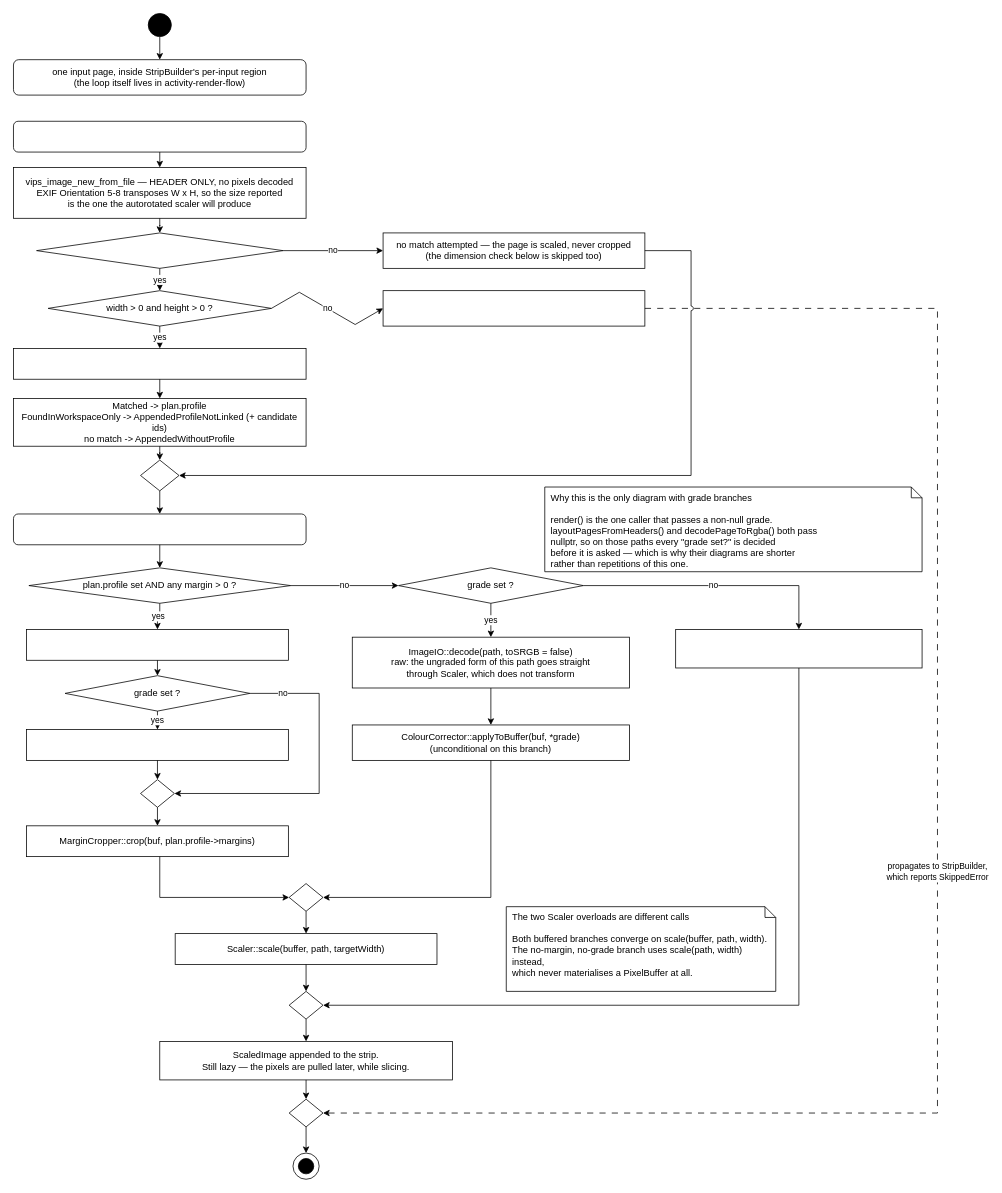
Image size: 1002x1193. Some labels were removed from this diagram. The centre of each missing label's shape, as x and y in pixels:
CanvasProfileMatcher::resolveForSize(width, height): [159,363]
ColourCorrector::applyToBuffer(buf, *grade): [157,744]
ImageIO::decode(path, toSRGB = true): [157,644]
PageRenderer::planFromHeader(path): [159,136]
PageRenderer::scaledPage(plan, path, grade): [159,529]
Scaler::scale(path, targetWidth) the file overload — no buffer involved: [798,648]
throw runtime_error "cannot determine image dimensions": [513,308]
workspace has canvas profiles?: [159,250]
